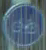bike lane: (4, 0, 45, 44)
